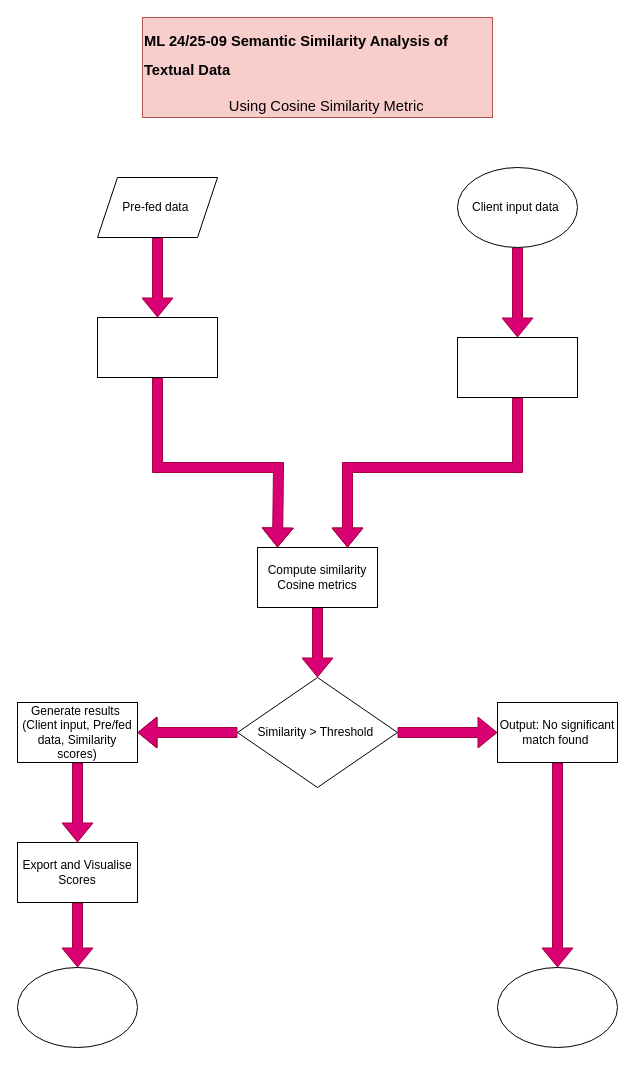
The diagram is 635 pixels wide and 1065 high, and some of its shapes have lost their labels. Each missing label, with the centre of its shape:
"End" belongs at (557,1007).
"Pass client data to open AI embedder" belongs at (517,367).
"Pass pre-fed data to open AI embedder" belongs at (157,347).
"Visualisation completed" belongs at (77,1007).
